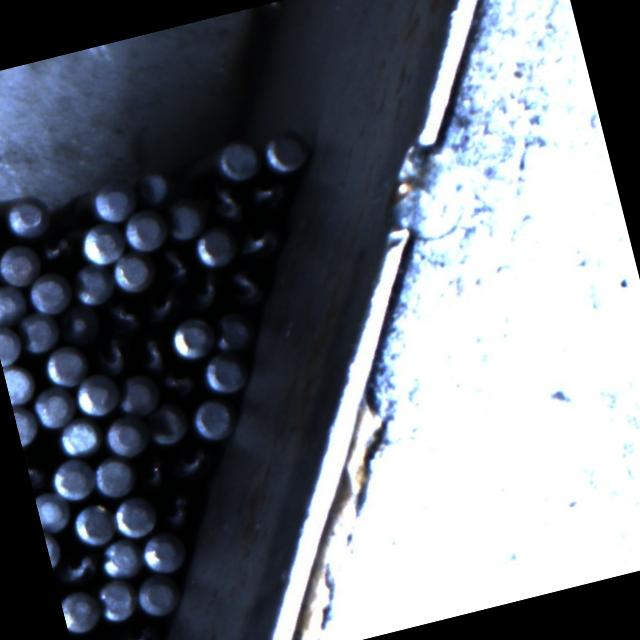tool: (100, 408, 153, 459), (186, 392, 238, 443), (1, 190, 54, 240), (85, 177, 138, 227), (108, 489, 160, 539), (76, 218, 128, 268), (165, 312, 217, 362), (24, 268, 76, 318), (46, 452, 98, 502), (258, 124, 310, 174), (198, 348, 250, 398), (137, 527, 188, 577), (73, 370, 124, 420), (119, 207, 170, 257), (141, 399, 192, 449), (42, 339, 92, 389), (191, 220, 241, 270), (114, 368, 164, 418), (212, 134, 264, 182), (133, 568, 183, 617), (30, 382, 80, 431), (67, 498, 116, 548), (90, 451, 139, 500), (94, 533, 144, 581), (209, 306, 259, 354), (67, 260, 115, 308), (56, 412, 106, 458), (96, 576, 142, 626), (15, 308, 62, 356), (108, 247, 156, 294), (163, 196, 209, 244), (0, 239, 43, 290), (56, 300, 102, 346), (59, 586, 102, 634), (132, 166, 176, 210), (34, 488, 72, 534), (1, 360, 36, 405), (0, 280, 28, 327), (12, 400, 40, 446), (0, 321, 25, 366), (42, 526, 64, 568)
tool_b: (232, 218, 285, 265), (220, 262, 268, 312), (204, 178, 250, 228), (151, 241, 198, 288), (242, 170, 290, 216), (155, 484, 202, 530), (88, 332, 134, 379), (140, 284, 188, 329), (156, 359, 204, 404), (166, 440, 215, 484), (52, 545, 100, 589), (182, 269, 227, 315), (101, 294, 146, 338), (130, 330, 173, 376), (35, 228, 78, 268), (132, 450, 172, 492), (112, 618, 162, 640), (26, 458, 50, 498)
void: (19, 428, 67, 476)
